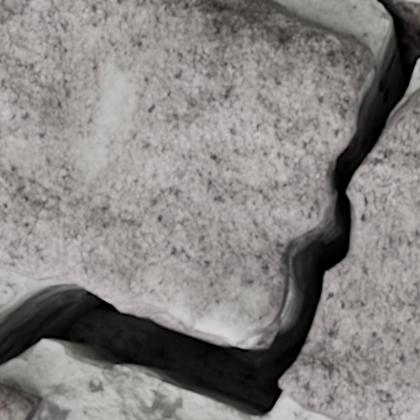broken_brick: (0, 0, 373, 343), (280, 92, 419, 419), (0, 382, 43, 419)
crack: (0, 0, 419, 419)
